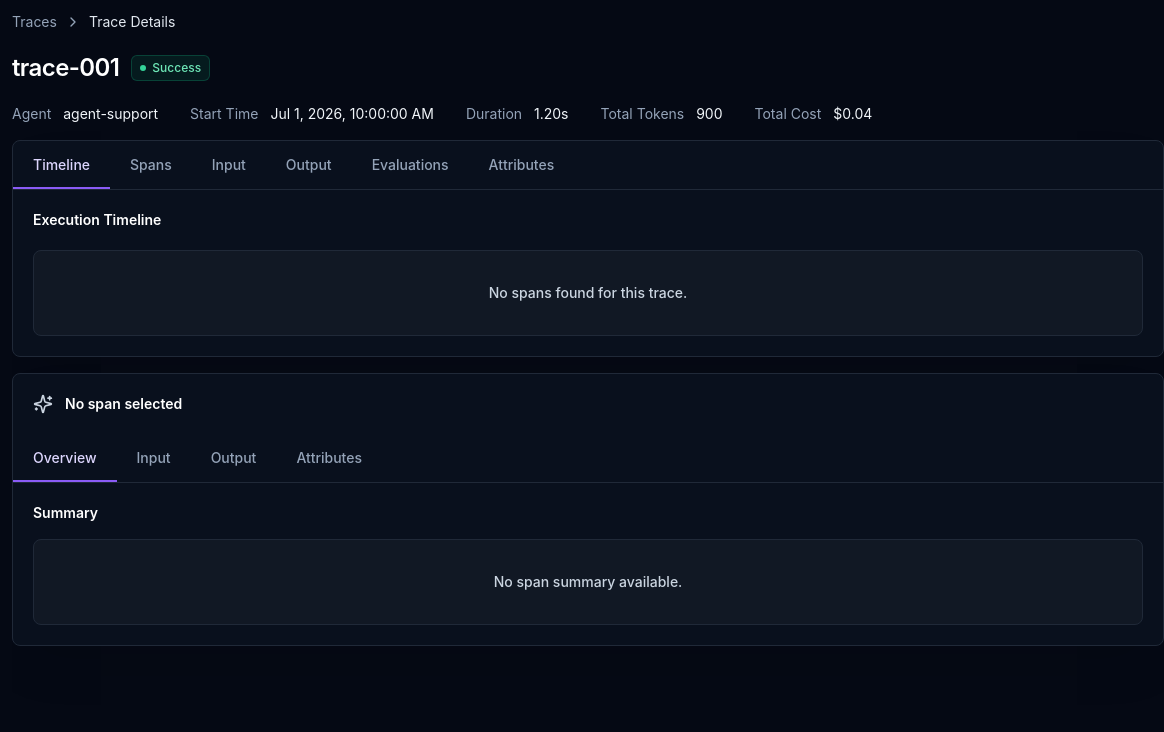
TraceDetailsPage › shows empty states when spans and evaluations are missing
Check: the text "No spans found for this trace." is shown, box [489,284,687,301]
Click the tab "Evaluations".
click(410, 165)  # box [352,141,469,189]
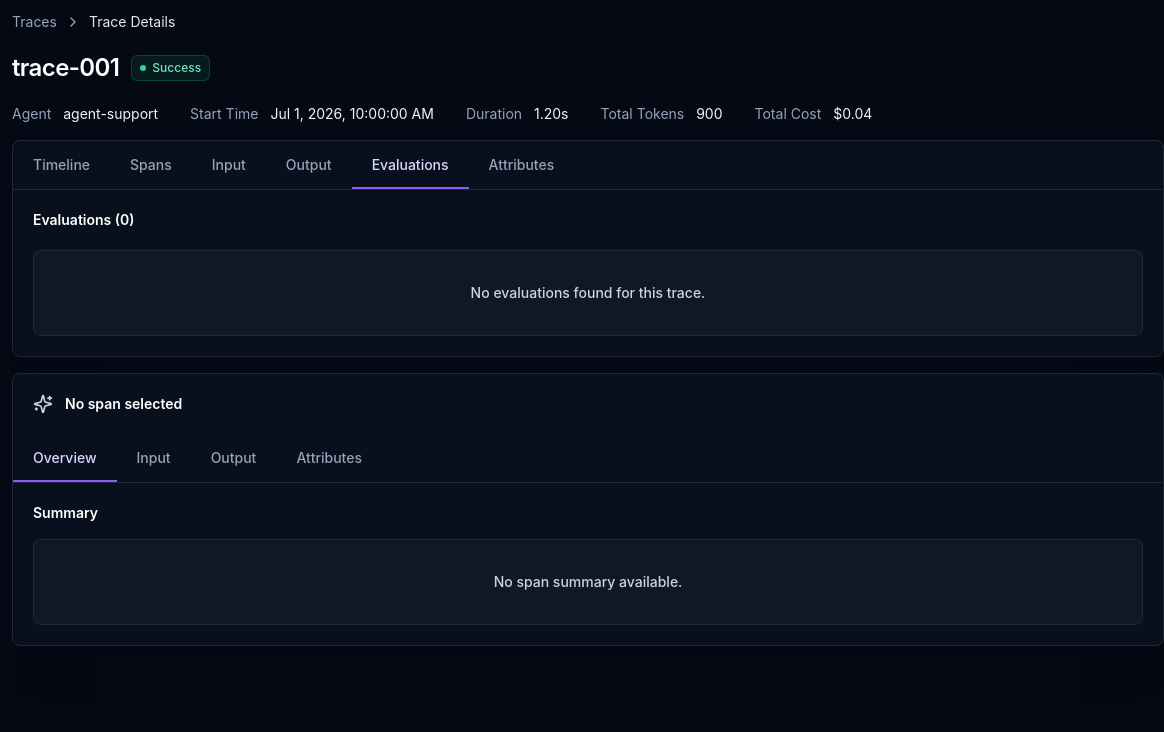
Check: the text "No evaluations found for this trace." is shown, box [471,284,705,301]
